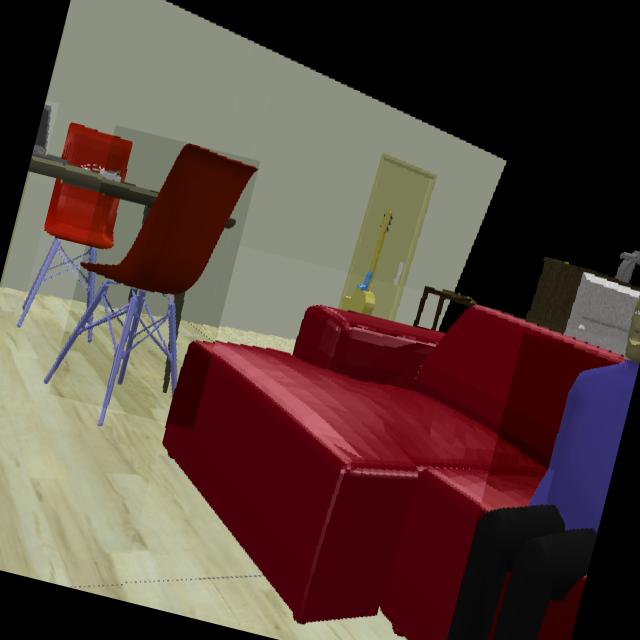chair: (81, 143, 257, 408), (17, 180, 119, 328)
laptop: (32, 100, 51, 154)
person: (447, 360, 639, 640)
sofa: (159, 306, 623, 640)
table: (26, 149, 158, 207)
